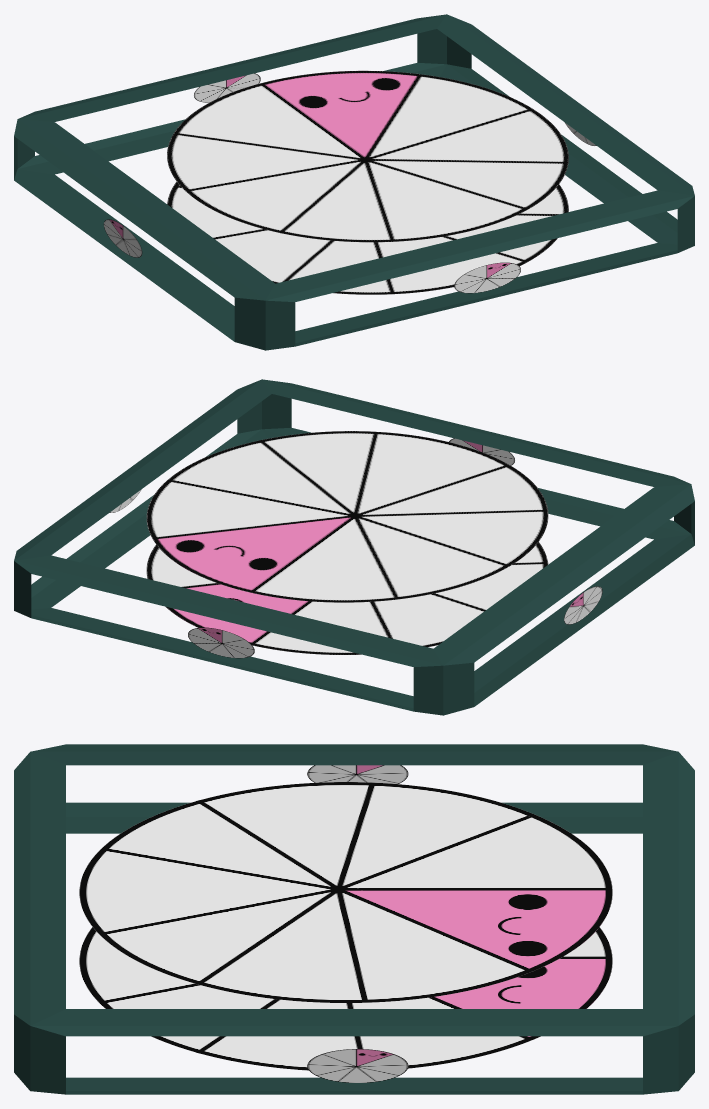
The model's file is Fracciones un noveno.fbx.
The picture shows the model from 3 angles, top to bottom: view 1: azimuth 30°, elevation 25°; view 2: azimuth 150°, elevation 25°; view 3: azimuth 270°, elevation 25°; orthographic projection. The views are drawn at different scales.
Parts seen in each view (by area): view 1: 1/9; view 2: 1/9; view 3: 1/9.
Boxes of the visible parts, left/top/right/bottom form: 1/9: left=14, top=14, right=694, bottom=350; 1/9: left=14, top=379, right=694, bottom=715; 1/9: left=14, top=744, right=694, bottom=1094.
Size of the model in its own units: 213 by 23.33 by 210.
2 materials, 1 textured.
